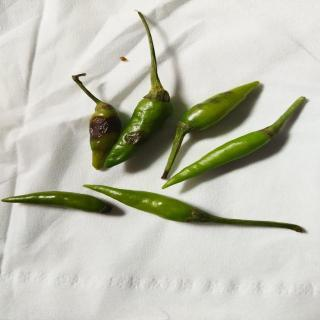Cabai Hijau: (163, 79, 311, 193), (80, 179, 310, 237), (1, 187, 117, 220)
